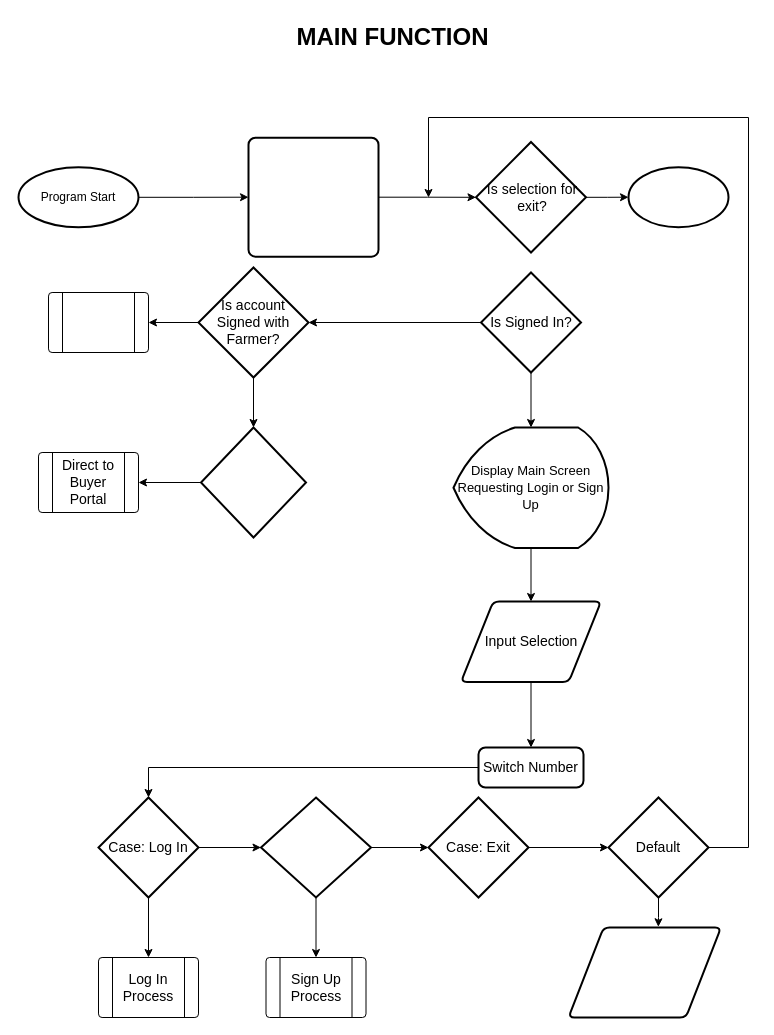
Image size: 774x1035. Some labels were removed from this diagram. Each missing label, with the centre of its shape:
"Case: Sign Up" belongs at point (316, 847).
"Direct to Farmer Portal" belongs at point (98, 322).
"END" belongs at point (678, 197).
"Is account Signed with Buyer?" belongs at point (253, 482).
"Request User to enter valid Selection" belongs at point (644, 972).
"SETUP all structures and functions along with globally defined structure objects" belongs at point (313, 196).
